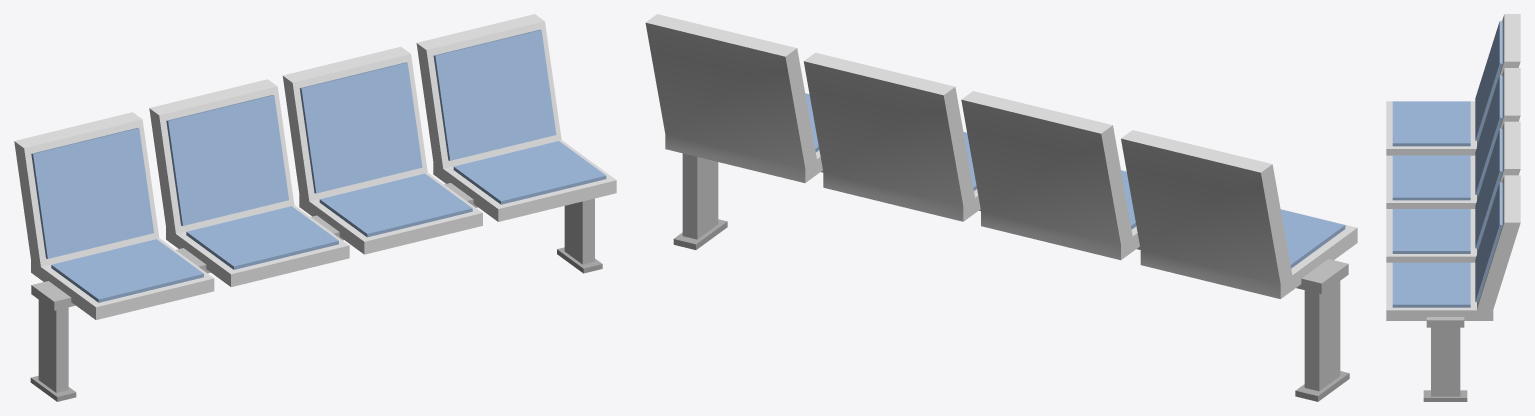
File: bench_2.fbx
3 views of the same model, side by side, from view 1: azimuth 30°, elevation 25°; view 2: azimuth 150°, elevation 25°; view 3: azimuth 270°, elevation 25° (orthographic). The views are drawn at different scales.
Visible parts, largest first — view 1: Cube_17; view 2: Cube_17; view 3: Cube_17.
Boxes of the visible parts, x1=… form: Cube_17: x1=14, y1=14, x2=616, y2=401; Cube_17: x1=645, y1=14, x2=1357, y2=401; Cube_17: x1=1386, y1=14, x2=1520, y2=401.
Bounding box in the file's own units: 94.64 × 35.38 × 24.53.
